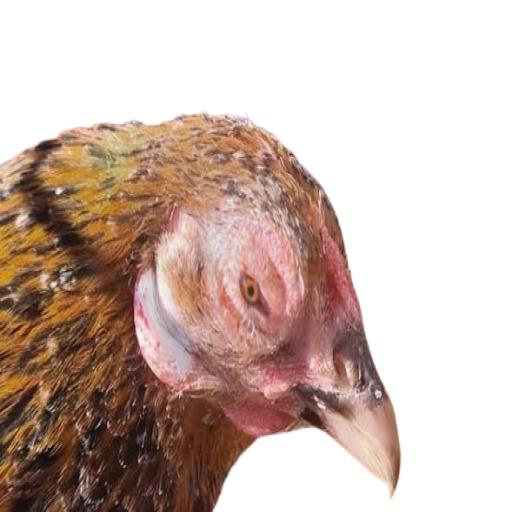disease: (194, 198, 308, 365)
